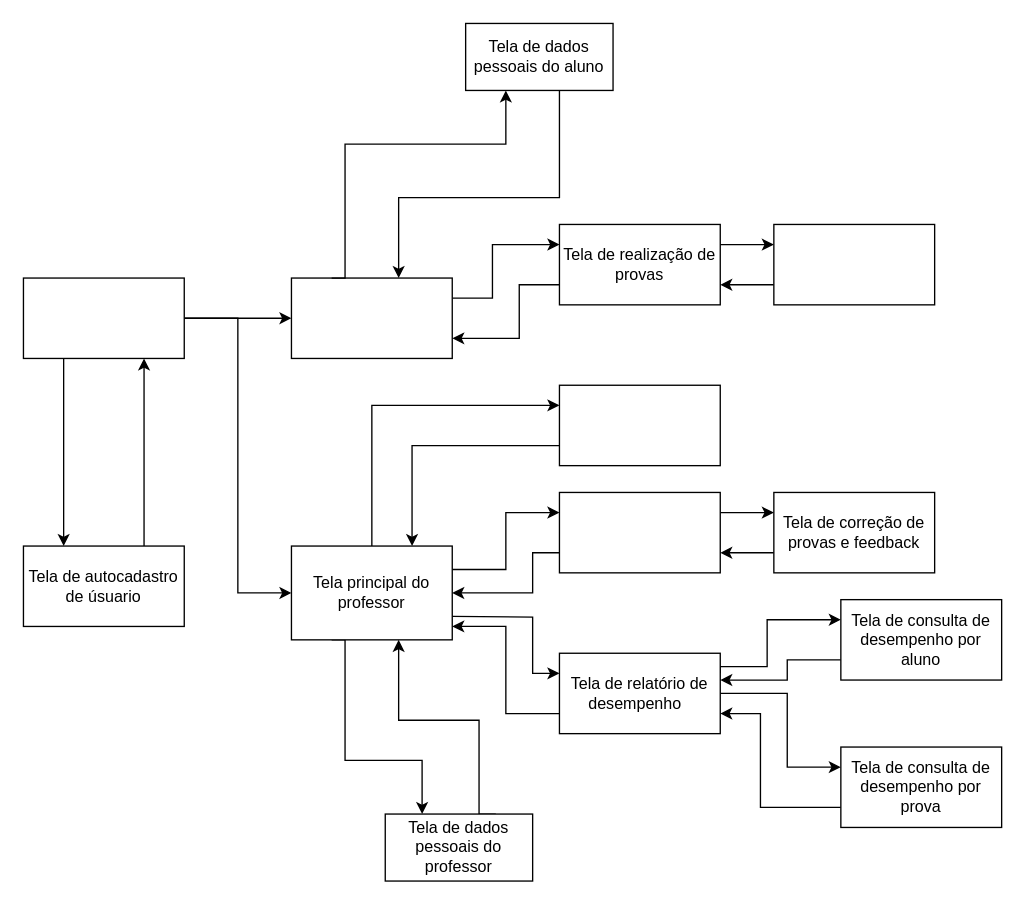
Some shapes in this 1025 by 905 pixel diagram are drawn without their labels. The shapes that lost their labels are listed below. From the top down, each one's centre as x and y in pixels, then its label:
At pixel 854 264: "Tela de consulta de notas e feedback".
At pixel 103 317: "Tela de Logon".
At pixel 371 317: "Tela principal do aluno".
At pixel 639 425: "Tela de gerenciamento de disciplinas".
At pixel 639 532: "Tela de cadastro de provas".
